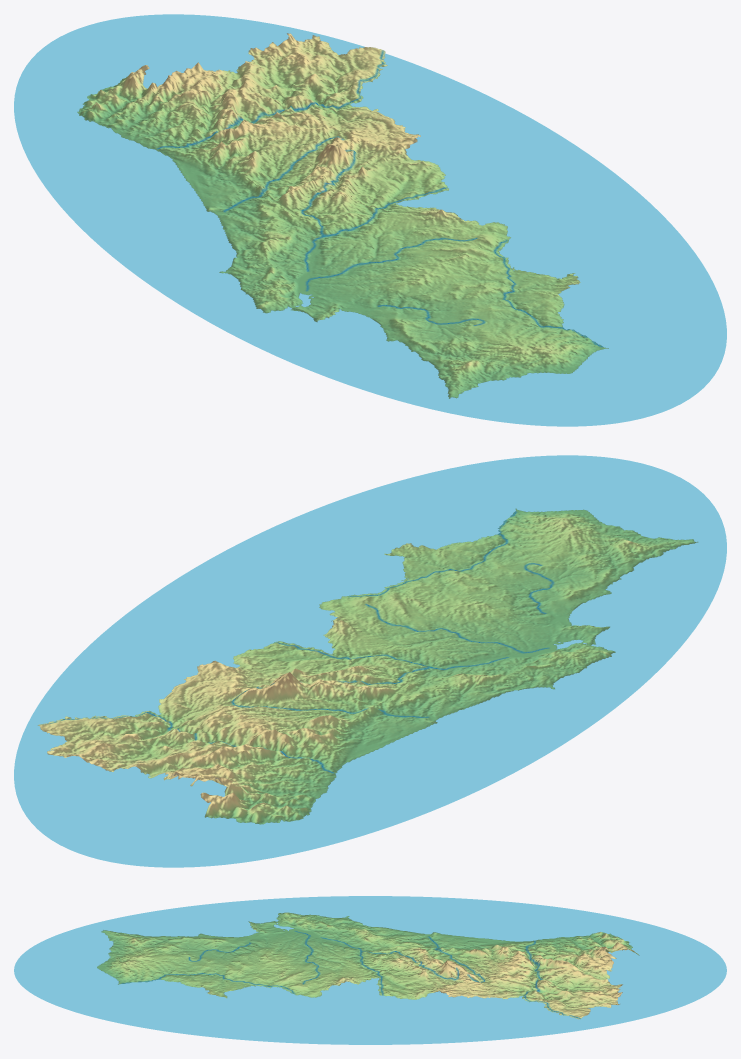
Rendered from PRT-terrain.glb.
3 renders of one model, top to bottom at view 1: azimuth 30°, elevation 25°; view 2: azimuth 150°, elevation 25°; view 3: azimuth 270°, elevation 25°, orthographic. The views are drawn at different scales.
Parts seen in each view (by area): view 1: Relevo com hidrografia; view 2: Relevo com hidrografia; view 3: Relevo com hidrografia.
Part boxes in pixels (x1,y1,x2,y2): Relevo com hidrografia: (14, 14, 726, 426); Relevo com hidrografia: (14, 455, 726, 867); Relevo com hidrografia: (14, 896, 726, 1044).
Size of the model in its own units: 1.04 by 0.0572 by 2.11.
Materials: 2 (1 with a texture image).
